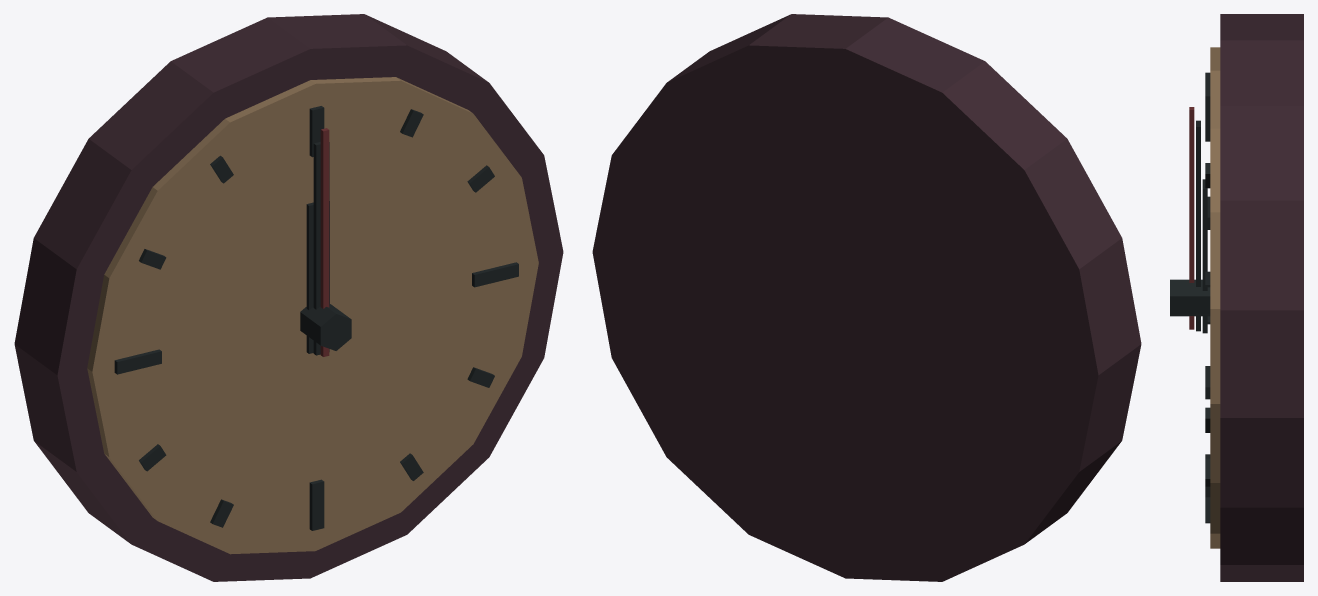
File: ceas.glb
3 views of the same model, side by side, from view 1: azimuth 30°, elevation 25°; view 2: azimuth 150°, elevation 25°; view 3: azimuth 270°, elevation 25° (orthographic). The views are drawn at different scales.
Visible parts, largest first — view 1: Ceas, Secundar, Minutar, Orar; view 2: Ceas; view 3: Ceas, Secundar, Minutar, Orar.
Boxes of the visible parts, x1,y1,x2,y2 form: Ceas: [14, 14, 563, 581]; Secundar: [320, 128, 329, 356]; Minutar: [313, 142, 329, 355]; Orar: [306, 201, 329, 353]; Ceas: [592, 14, 1141, 581]; Ceas: [1170, 14, 1303, 581]; Secundar: [1189, 107, 1194, 329]; Minutar: [1196, 120, 1200, 331]; Orar: [1202, 179, 1207, 333].
Size of the model in its own units: 0.34 by 0.34 by 0.08.
